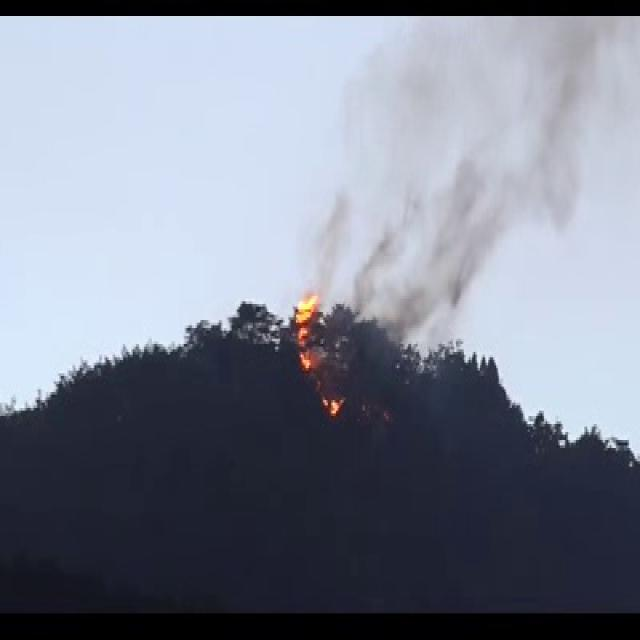Fire: (298, 298, 314, 372)
Smoke: (388, 202, 453, 310)
